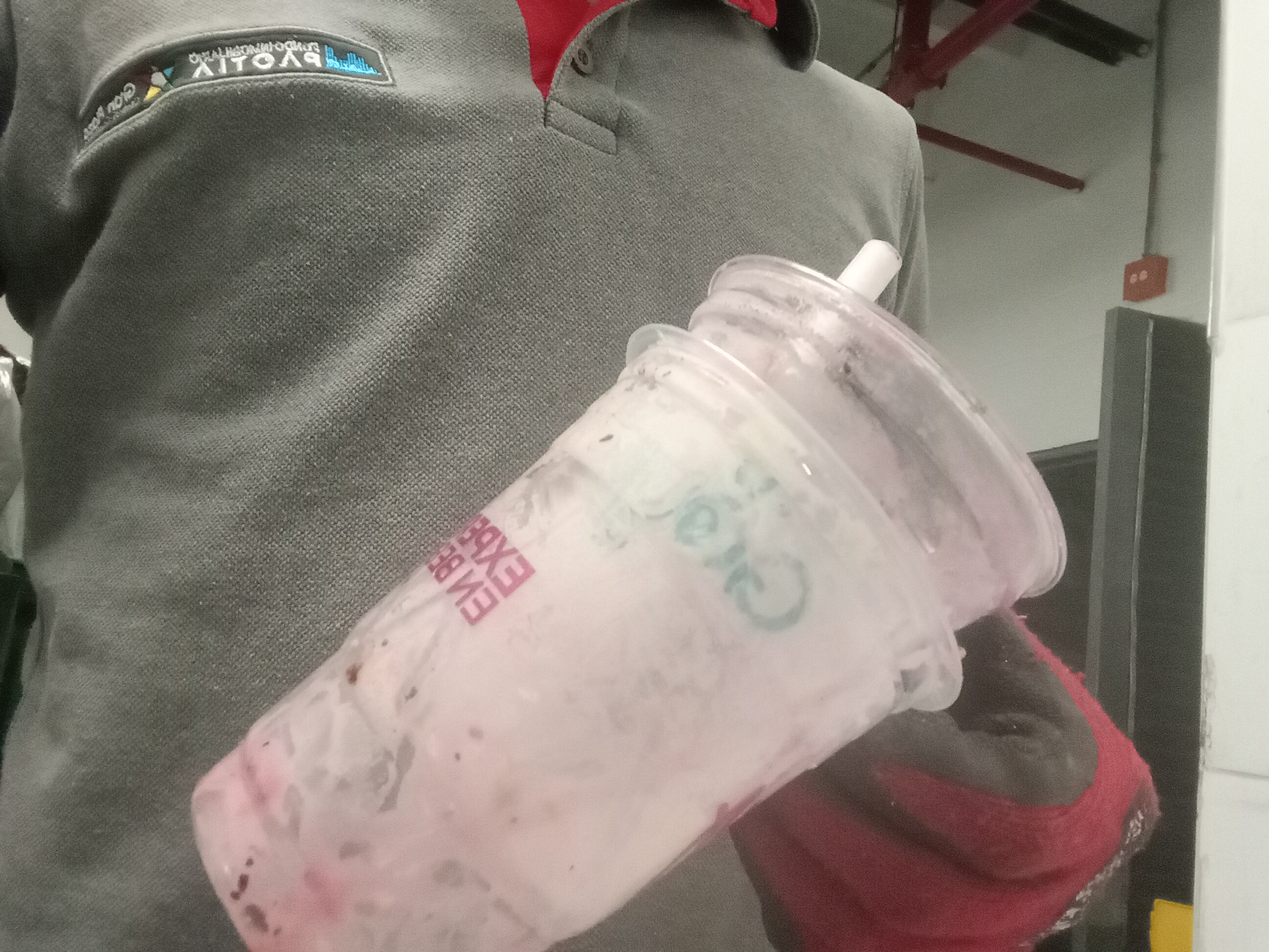Plastico: (187, 255, 1070, 952)
